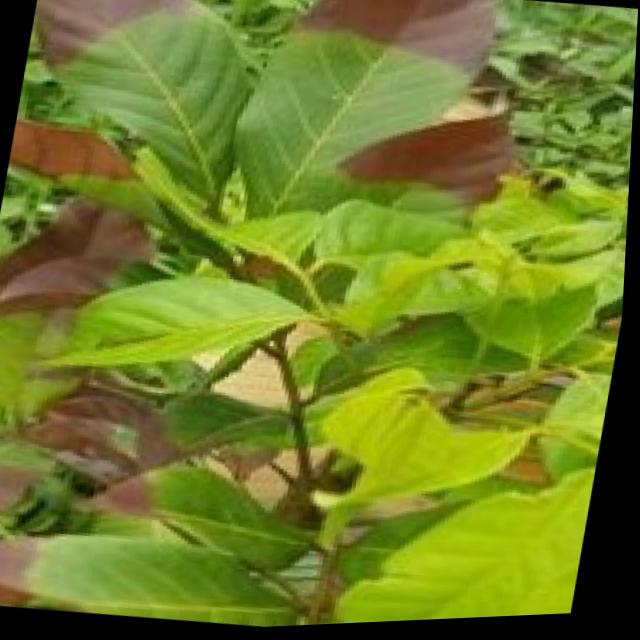Leaf Blight: (331, 68, 614, 286), (0, 371, 245, 580), (0, 92, 205, 335), (0, 405, 169, 615), (23, 0, 264, 104), (257, 0, 539, 80)
